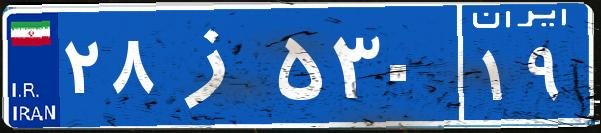0: (385, 28, 445, 110)
1: (475, 38, 525, 113)
2: (57, 26, 110, 107)
3: (330, 28, 385, 110)
5: (273, 28, 330, 110)
8: (110, 28, 158, 105)
9: (525, 38, 570, 115)
ز: (158, 15, 273, 115)
